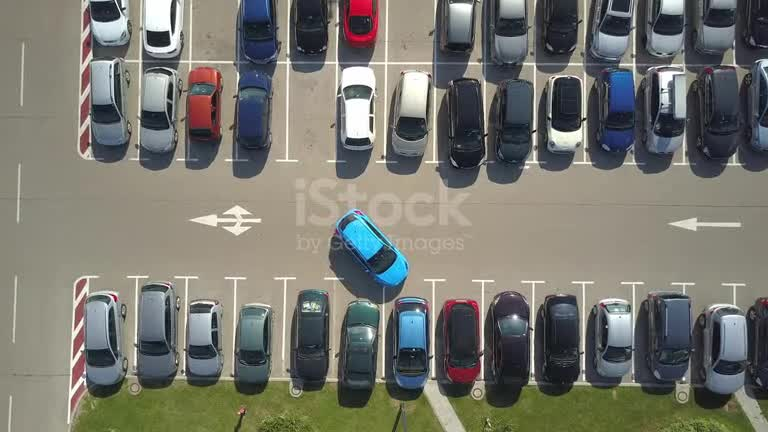car: (335, 209, 408, 286), (693, 66, 741, 158), (698, 304, 747, 394), (643, 291, 691, 380), (136, 282, 179, 379), (84, 291, 127, 385), (640, 66, 686, 153), (489, 291, 530, 385), (445, 78, 485, 168), (392, 297, 431, 389), (90, 58, 131, 145), (140, 67, 181, 152), (391, 70, 431, 156), (341, 299, 379, 389), (542, 294, 580, 383), (293, 289, 329, 380), (442, 299, 481, 383), (595, 68, 634, 151), (495, 79, 534, 162), (592, 298, 632, 377), (544, 75, 585, 152), (338, 66, 375, 150), (234, 303, 272, 384), (185, 299, 223, 376), (235, 71, 271, 148), (186, 67, 222, 140), (590, 0, 633, 61), (489, 0, 529, 64), (240, 0, 279, 63), (692, 0, 737, 54), (142, 0, 183, 58), (644, 0, 684, 57), (744, 59, 767, 150), (293, 0, 330, 55), (543, 0, 580, 53), (88, 0, 131, 45), (439, 0, 476, 52), (747, 297, 767, 389), (343, 0, 378, 47), (742, 0, 767, 47)
